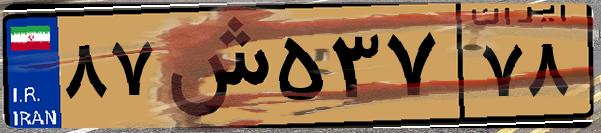3: (330, 28, 385, 110)
5: (270, 28, 330, 110)
7: (385, 28, 445, 110), (475, 38, 525, 113), (110, 28, 158, 98)
8: (57, 26, 110, 100), (525, 38, 570, 115)
ش: (158, 12, 270, 120)
